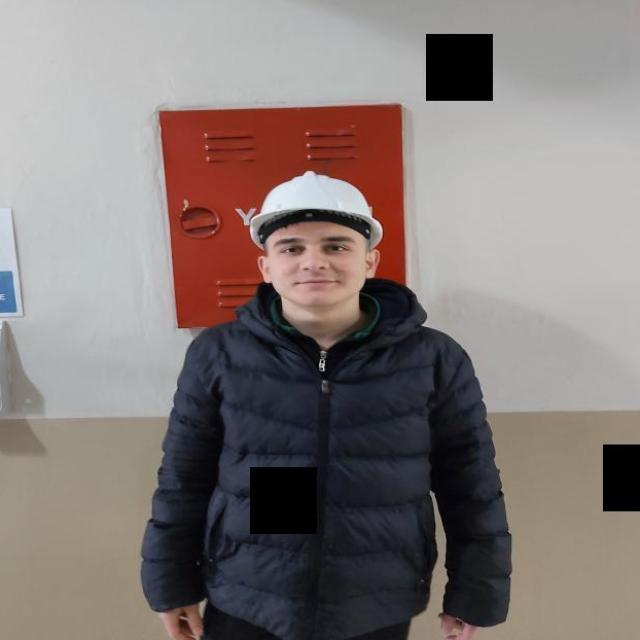helmet: (249, 169, 383, 251)
